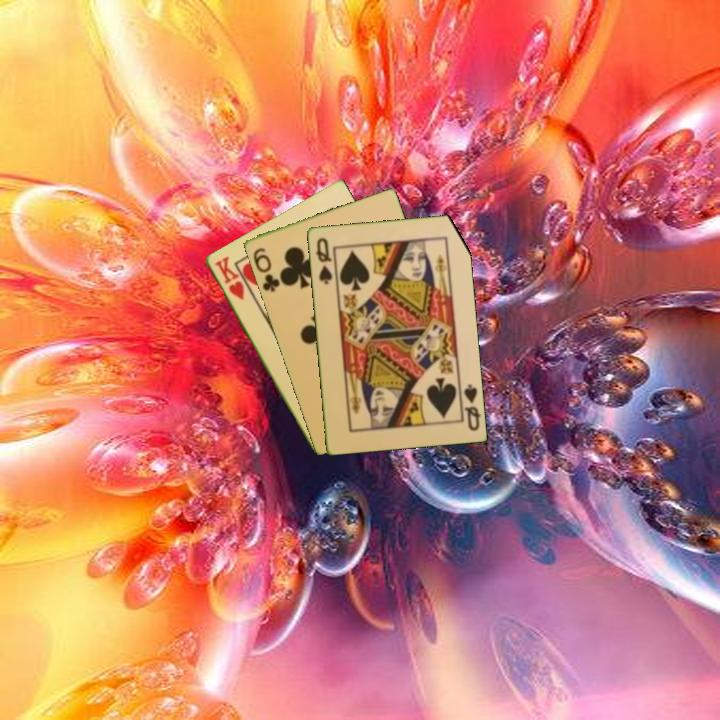6c: (249, 244, 282, 295)
Kh: (211, 253, 247, 303)
Qs: (460, 380, 483, 434), (312, 234, 335, 287)
